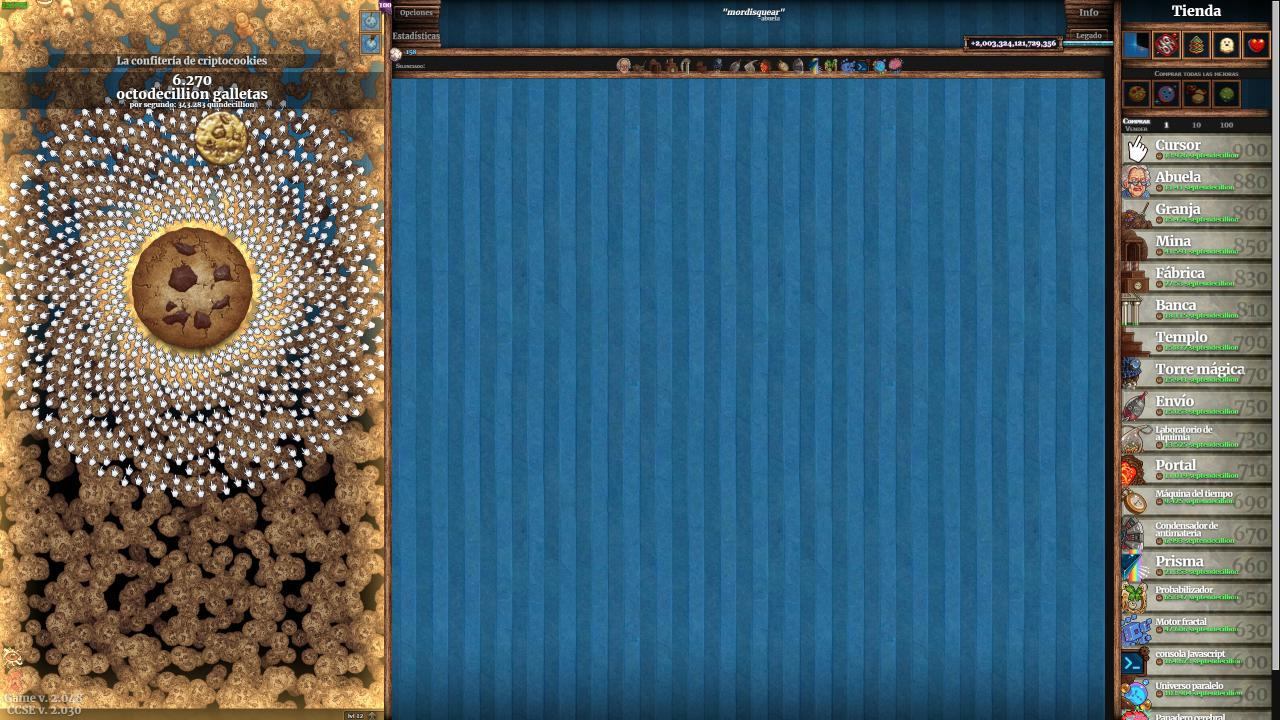GoldenCookie: (193, 111, 251, 168)
